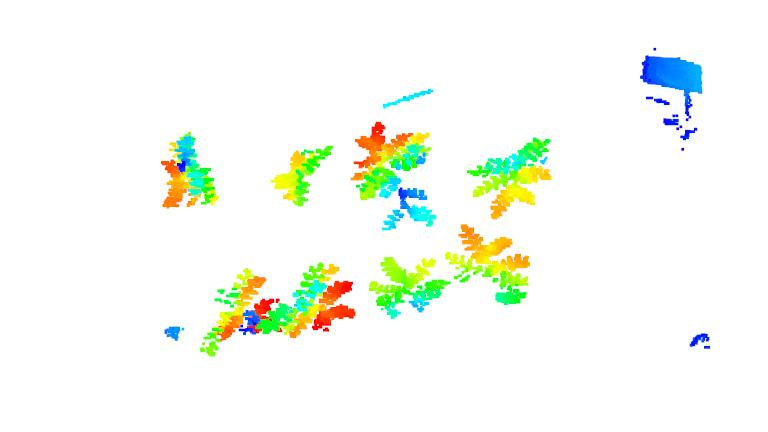chickpea: (347, 120, 440, 231), (464, 132, 557, 218), (197, 269, 281, 357), (443, 225, 529, 307), (265, 262, 356, 339), (158, 131, 224, 212), (368, 255, 449, 319), (268, 139, 335, 208)
